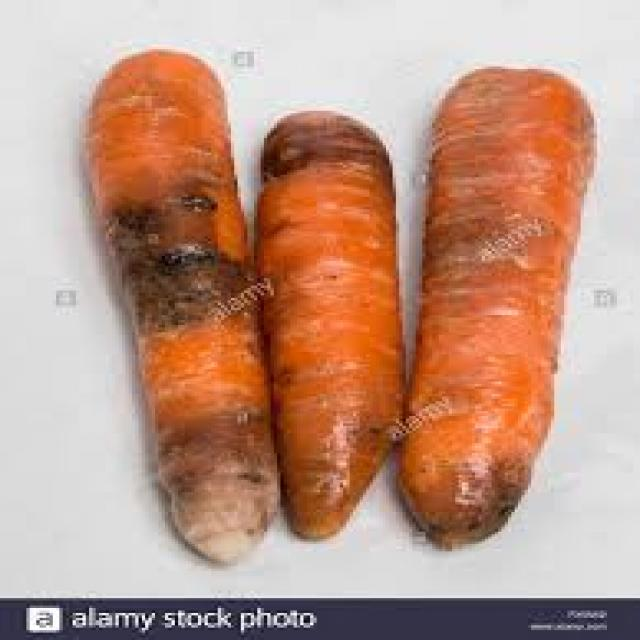organic waste: (393, 66, 597, 554), (86, 49, 277, 561), (248, 106, 402, 539)
